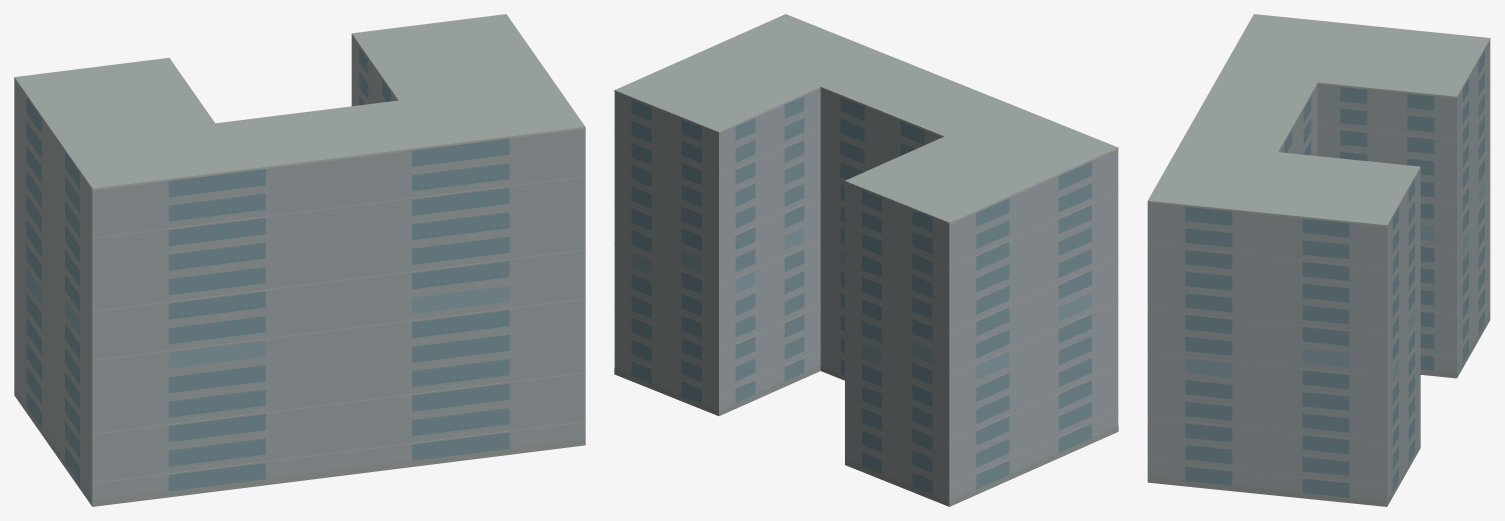
The model's file is residential-d630e033-7f05-4282-823b-37fd613c14ce.glb.
3 views of the same model, side by side, from view 1: azimuth 30°, elevation 25°; view 2: azimuth 150°, elevation 25°; view 3: azimuth 270°, elevation 25° (orthographic). The views are drawn at different scales.
Parts seen in each view (by area): view 1: residential-d630e033-7f05-4282-823b-37fd613c14ce.tmp; view 2: residential-d630e033-7f05-4282-823b-37fd613c14ce.tmp; view 3: residential-d630e033-7f05-4282-823b-37fd613c14ce.tmp.
Boxes of the visible parts, box(x1,y1,x2,y2) form: residential-d630e033-7f05-4282-823b-37fd613c14ce.tmp: box(14, 14, 585, 506); residential-d630e033-7f05-4282-823b-37fd613c14ce.tmp: box(614, 14, 1118, 506); residential-d630e033-7f05-4282-823b-37fd613c14ce.tmp: box(1147, 14, 1490, 506).
Bounding box in the file's own units: 63.79 × 39.65 × 43.76.
